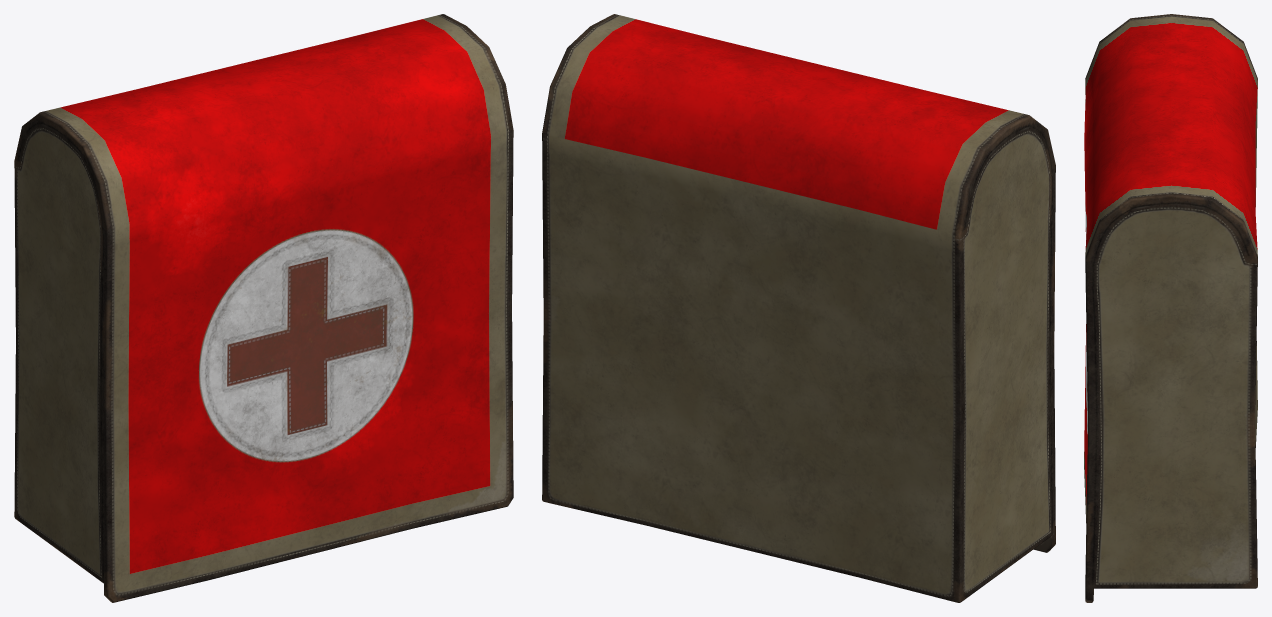
The model's file is Medkit.fbx.
3 views of the same model, side by side, from view 1: azimuth 30°, elevation 25°; view 2: azimuth 150°, elevation 25°; view 3: azimuth 270°, elevation 25° (orthographic). The views are drawn at different scales.
Visible parts, largest first — view 1: Medkit; view 2: Medkit; view 3: Medkit.
Boxes of the visible parts, x1,y1,x2,y2 form: Medkit: (14, 14, 513, 602); Medkit: (542, 14, 1055, 602); Medkit: (1084, 14, 1257, 602).
Bounding box in the file's own units: 25 × 26.43 × 10.07.
1 material, 1 textured.
